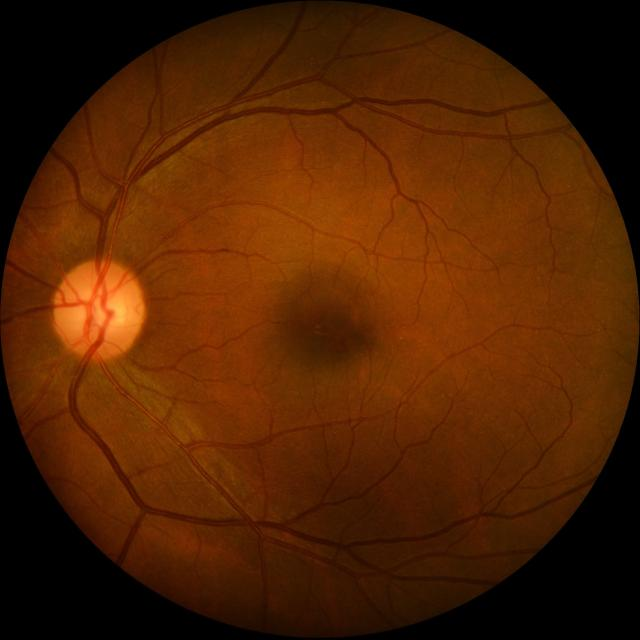OC: (86, 294, 124, 330)
OD: (52, 260, 144, 360)
